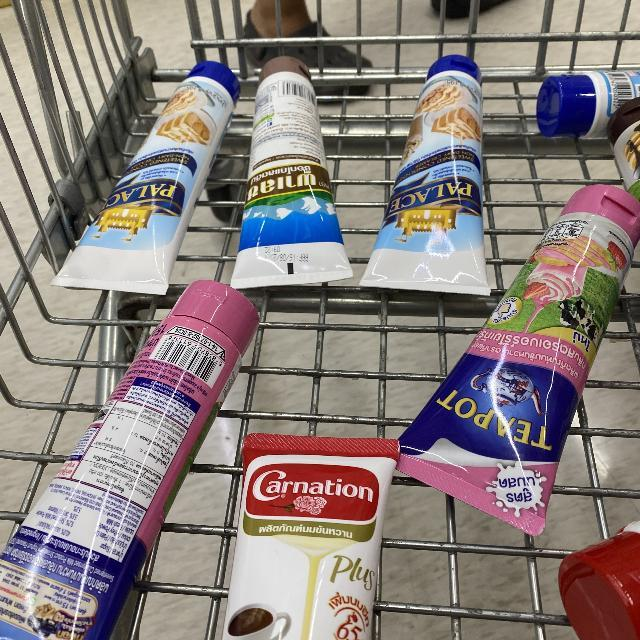Squeeze Tube: (64, 31, 639, 640)
